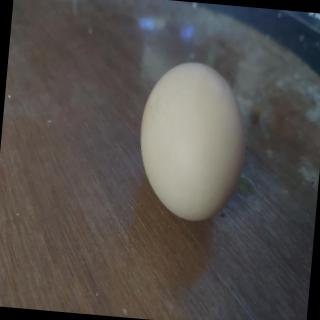Telur: (131, 59, 258, 228)
